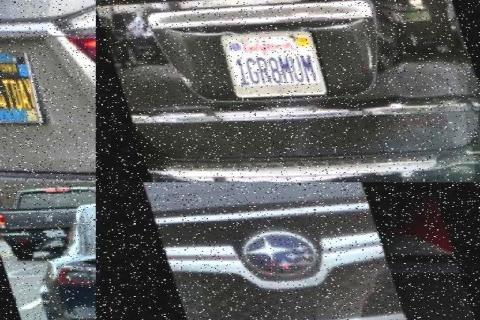LicensePlate: (210, 25, 326, 101), (0, 50, 39, 124)
